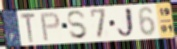6: (138, 5, 158, 38)
7: (88, 8, 108, 41)
J: (116, 6, 137, 39)
P: (39, 11, 62, 43)
S: (66, 10, 89, 41)
T: (19, 12, 38, 44)
